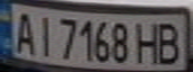1: (75, 17, 96, 62)
6: (93, 18, 115, 63)
7: (54, 15, 78, 60)
8: (109, 18, 133, 64)
A: (9, 8, 39, 56)
B: (154, 18, 187, 65)
H: (133, 18, 163, 65)
I: (33, 11, 57, 57)
